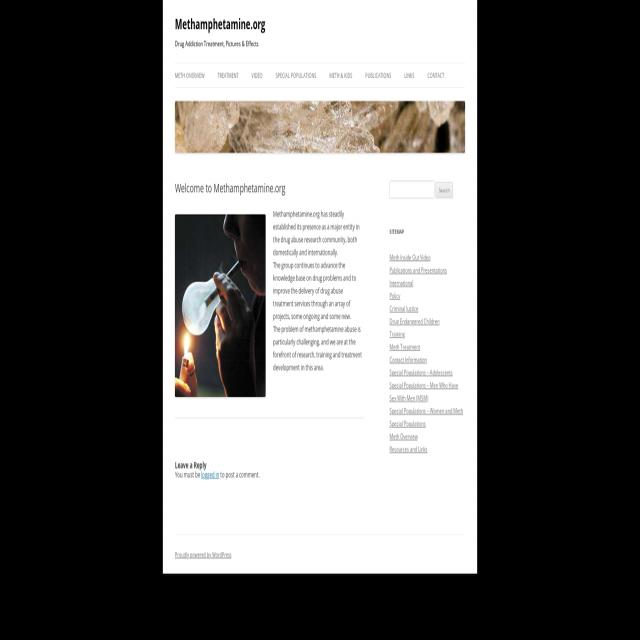button: (175, 214, 266, 397), (175, 103, 465, 155), (269, 64, 321, 87), (172, 63, 210, 87), (359, 63, 397, 87), (322, 64, 358, 87), (210, 63, 244, 87), (422, 63, 450, 87), (397, 63, 421, 87), (244, 64, 269, 87), (436, 181, 453, 197)
field: (390, 181, 434, 199)
